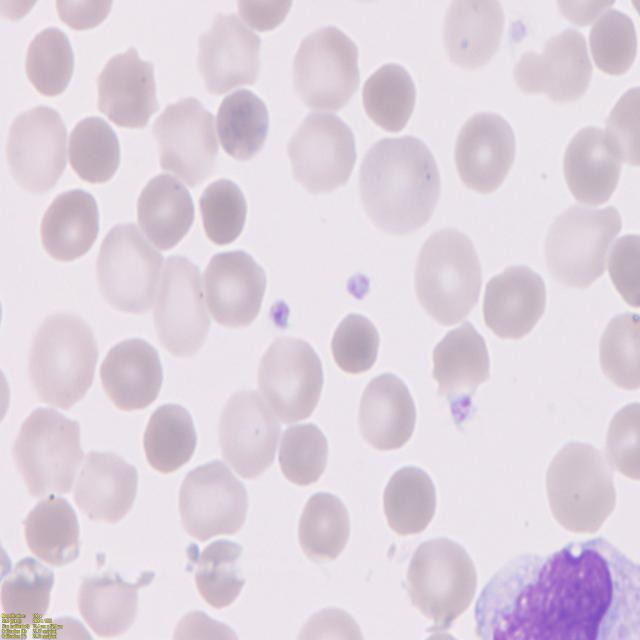Platelets: (266, 298, 294, 336)
RBC: (358, 133, 443, 241), (23, 305, 99, 411), (412, 227, 488, 331), (540, 435, 616, 537), (406, 532, 482, 626), (292, 21, 365, 115), (286, 108, 361, 196), (255, 333, 326, 425), (4, 102, 72, 196), (518, 24, 592, 110), (150, 91, 218, 184), (542, 202, 613, 291), (173, 460, 248, 544), (154, 254, 212, 360), (451, 105, 517, 195), (562, 120, 630, 207), (199, 12, 267, 98), (198, 246, 267, 330), (353, 368, 419, 454), (91, 46, 160, 128), (98, 332, 165, 412), (482, 262, 549, 340), (76, 448, 142, 526), (133, 170, 196, 250), (38, 187, 100, 266), (442, 0, 509, 73), (432, 323, 493, 402), (22, 492, 83, 569), (78, 570, 138, 638), (296, 489, 352, 559), (278, 420, 332, 490), (598, 309, 640, 396), (603, 392, 640, 483), (607, 81, 640, 170), (608, 228, 640, 311), (290, 607, 370, 640), (167, 609, 242, 640), (230, 0, 302, 32), (49, 0, 120, 32)
Spherocyte: (212, 84, 272, 166), (379, 460, 439, 540), (20, 20, 78, 102), (64, 110, 124, 186), (140, 398, 200, 474), (360, 60, 420, 132), (197, 172, 252, 246), (328, 309, 384, 378), (585, 4, 637, 77)
WBC: (466, 537, 640, 638)
